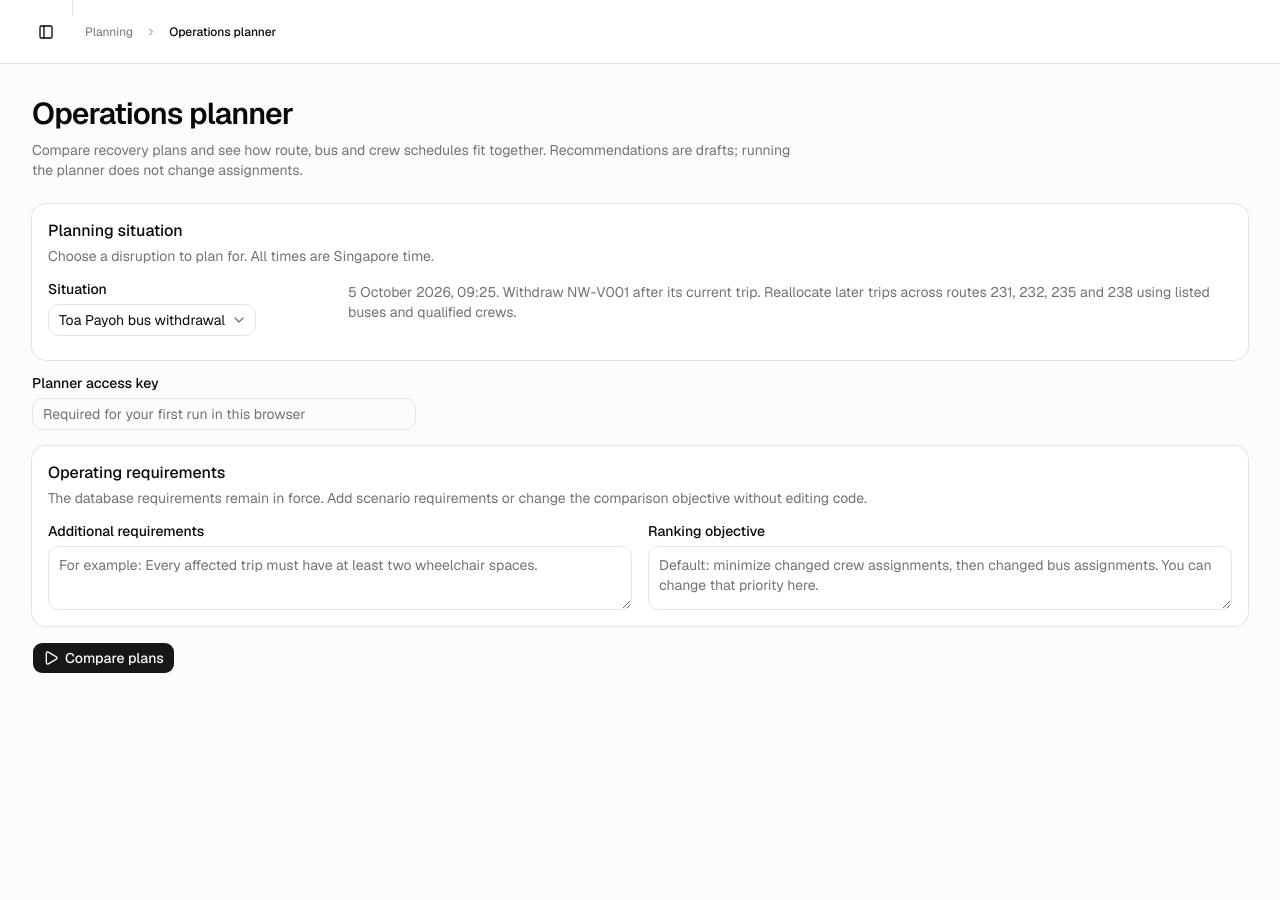
Test case: shows the no-plan reason and bounded shortlist without experiment panels
Click the button "Compare plans".
click(103, 658)  # box [32,642,175,674]
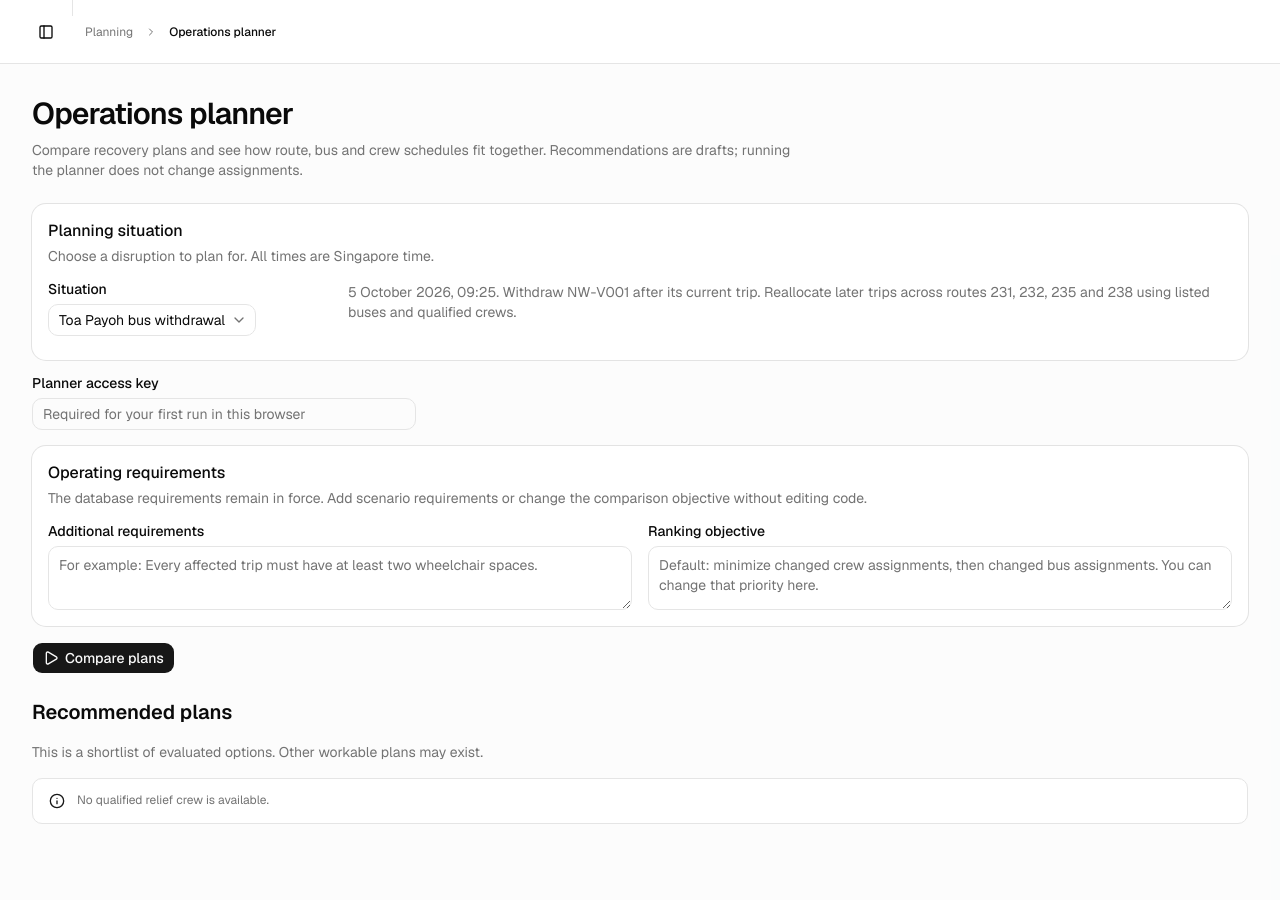
Expected: the text "No qualified relief crew is available." is shown, [77,791,269,810]
Expected: the text "This is a shortlist of evaluated options. Other workable plans may exist." is shown, [32,743,483,761]
